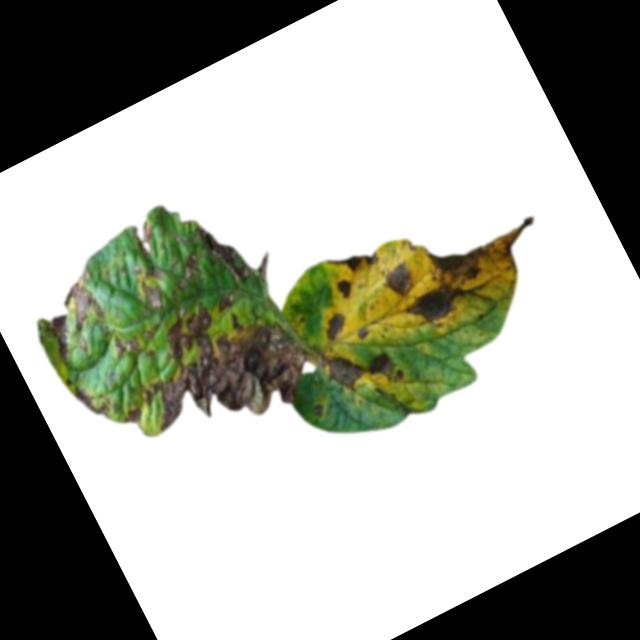Early_blight: (110, 268, 322, 464), (387, 205, 560, 340), (317, 328, 407, 411), (189, 214, 254, 291), (51, 267, 112, 334), (63, 363, 118, 427), (125, 260, 178, 319), (323, 239, 381, 286), (37, 312, 85, 368), (377, 256, 421, 302), (167, 247, 206, 289), (315, 306, 354, 346), (128, 218, 161, 257), (117, 404, 144, 429), (334, 274, 357, 300), (307, 399, 329, 425), (355, 324, 372, 341)
